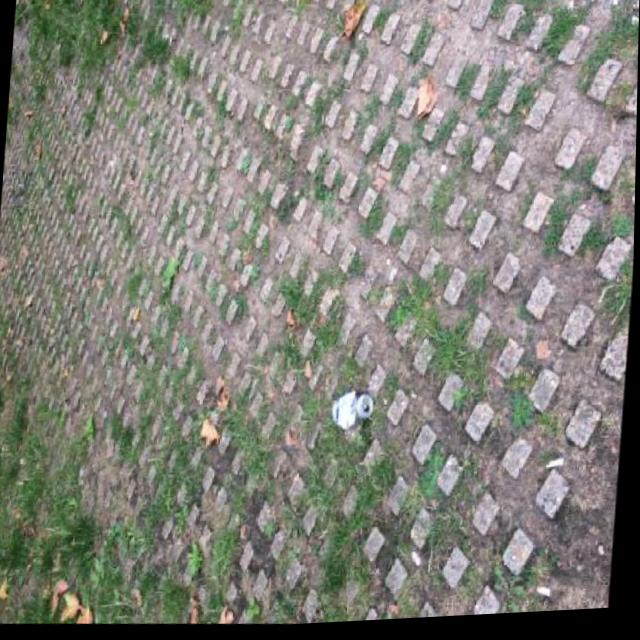metal: (332, 388, 376, 432)
